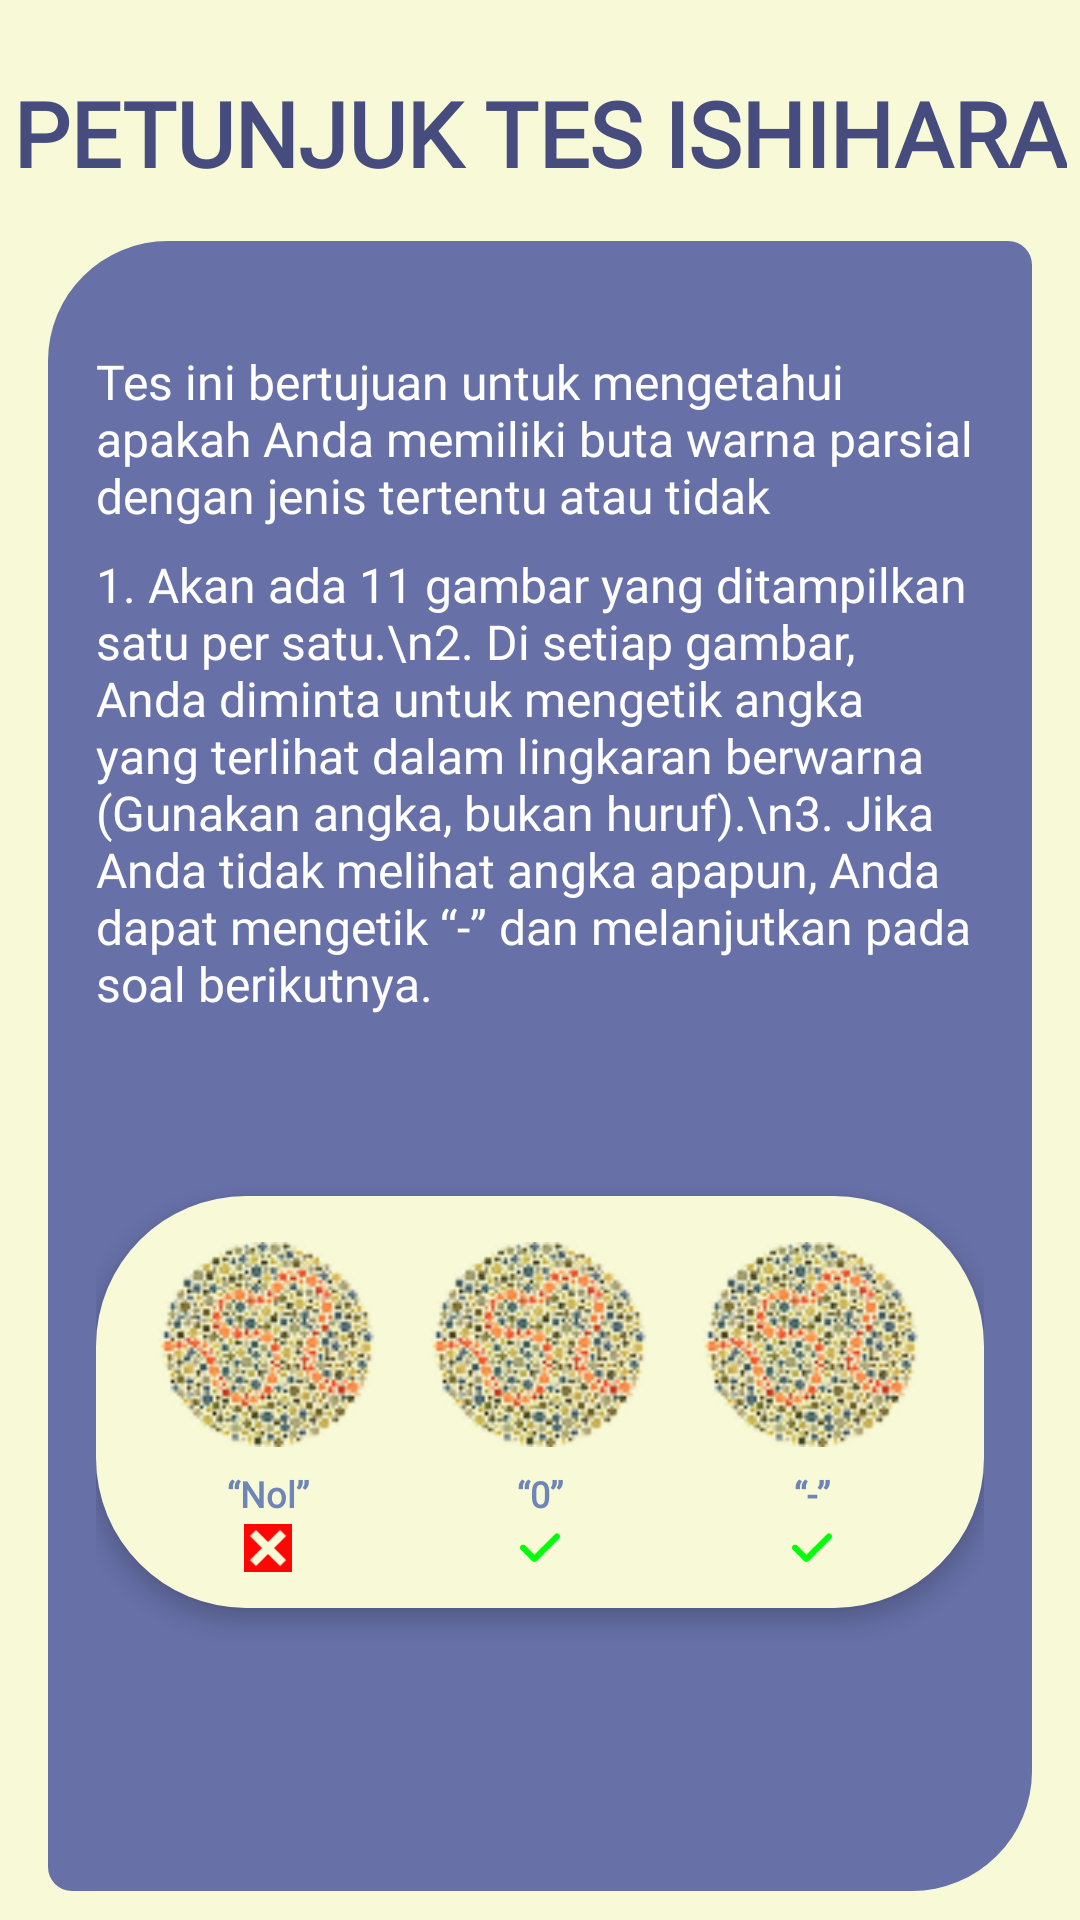

Icons on this 1080×1920 Android screen, each with its box as (x1, y1, x2, y2):
check: (520, 1533, 560, 1562), (792, 1533, 832, 1562)
close: (244, 1524, 292, 1572)
